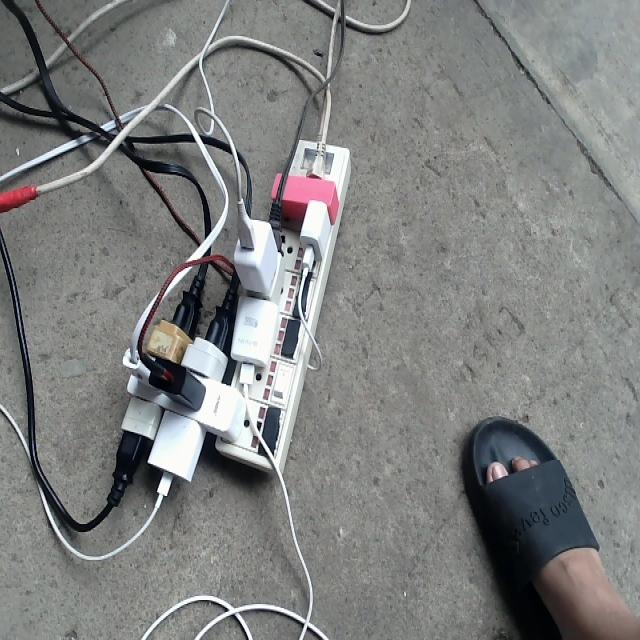-: (114, 135, 351, 505)
